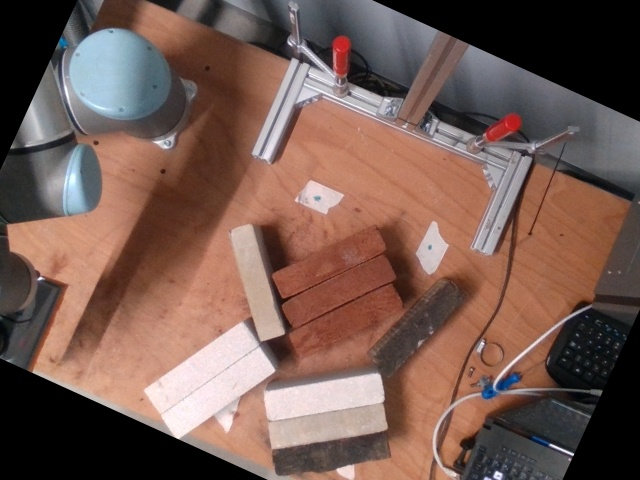brick-side: (166, 350, 273, 437), (149, 325, 255, 410), (291, 286, 401, 357), (282, 257, 394, 326), (275, 229, 385, 296), (378, 286, 461, 373), (233, 230, 280, 338), (267, 377, 380, 420), (272, 407, 385, 448), (275, 436, 386, 474)
